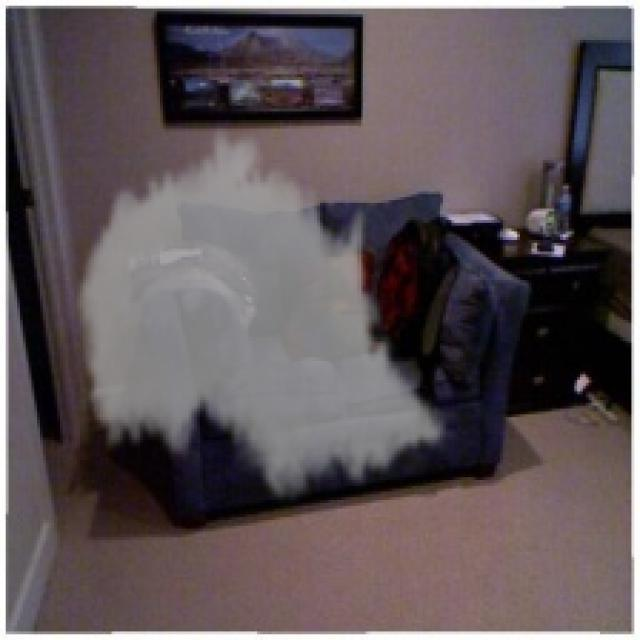Smoke: (71, 122, 448, 512)
